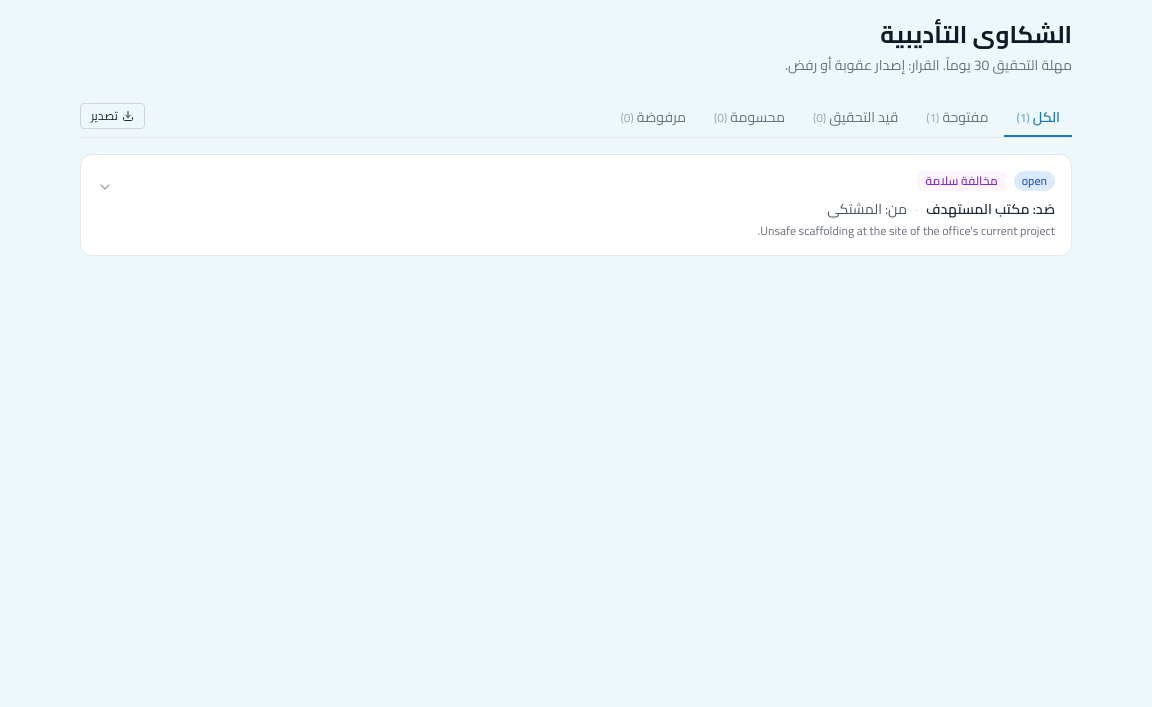
Test: ComplaintsAdmin (JORD-81 UI) › expands a row on click and shows the decide form for open complaints
Click the button that starts with "open": (1034,181) left=81, top=155, right=1071, bottom=255
(page scrolled)
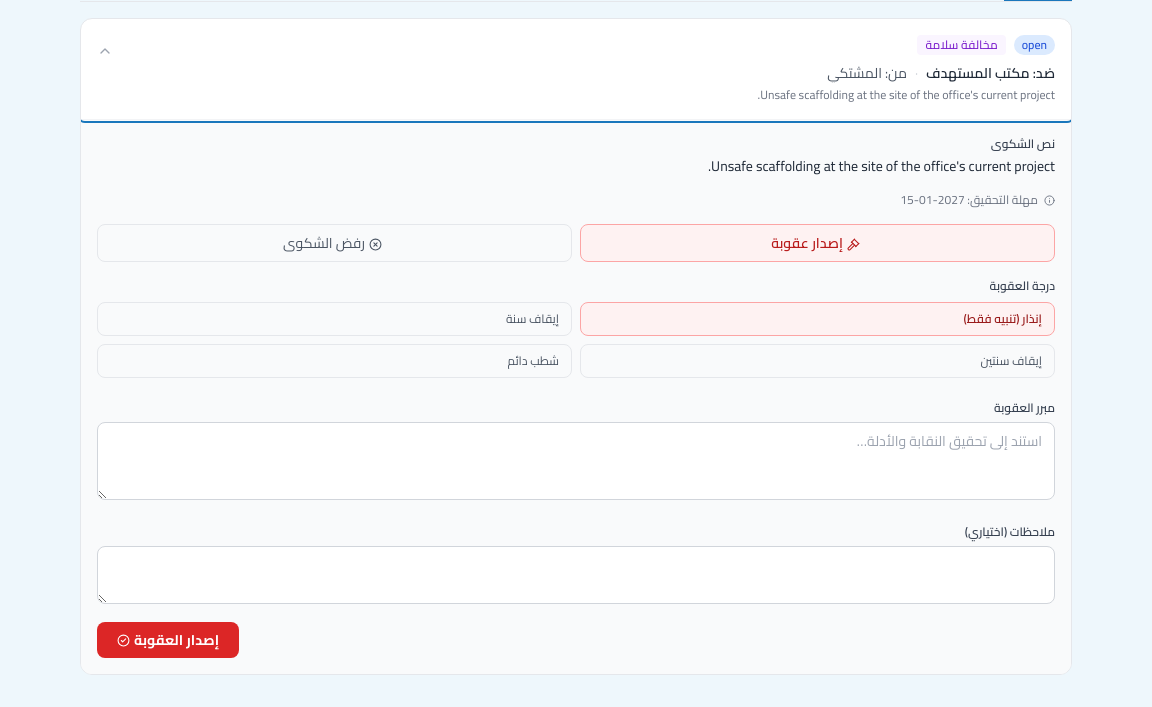
Expected: the element with test id "decide-form-5" is shown, left=97, top=224, right=1055, bottom=658
